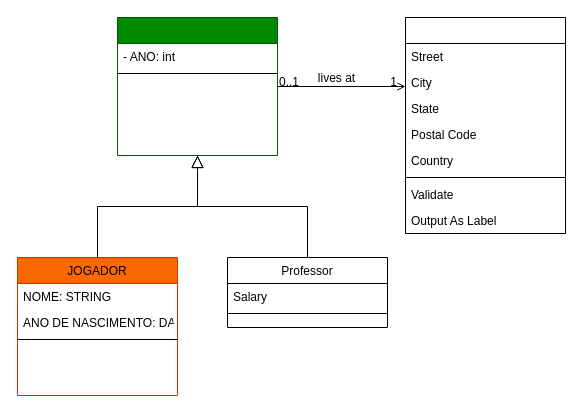
The diagram is 583 pixels wide and 413 high, and some of its shapes have lost their labels. Each missing label, with the box of its shape:
Address: (404, 16, 566, 234)
CAMPEONATO: (116, 16, 278, 156)
